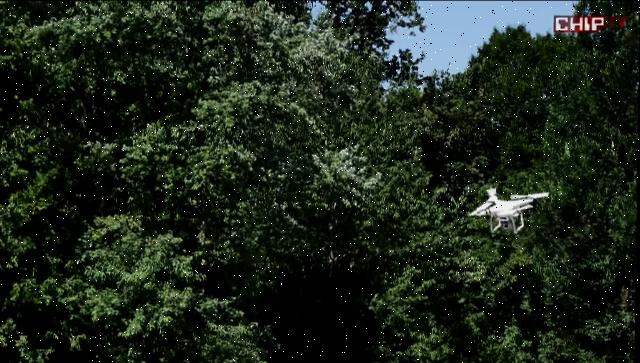drone: (469, 186, 550, 234)
